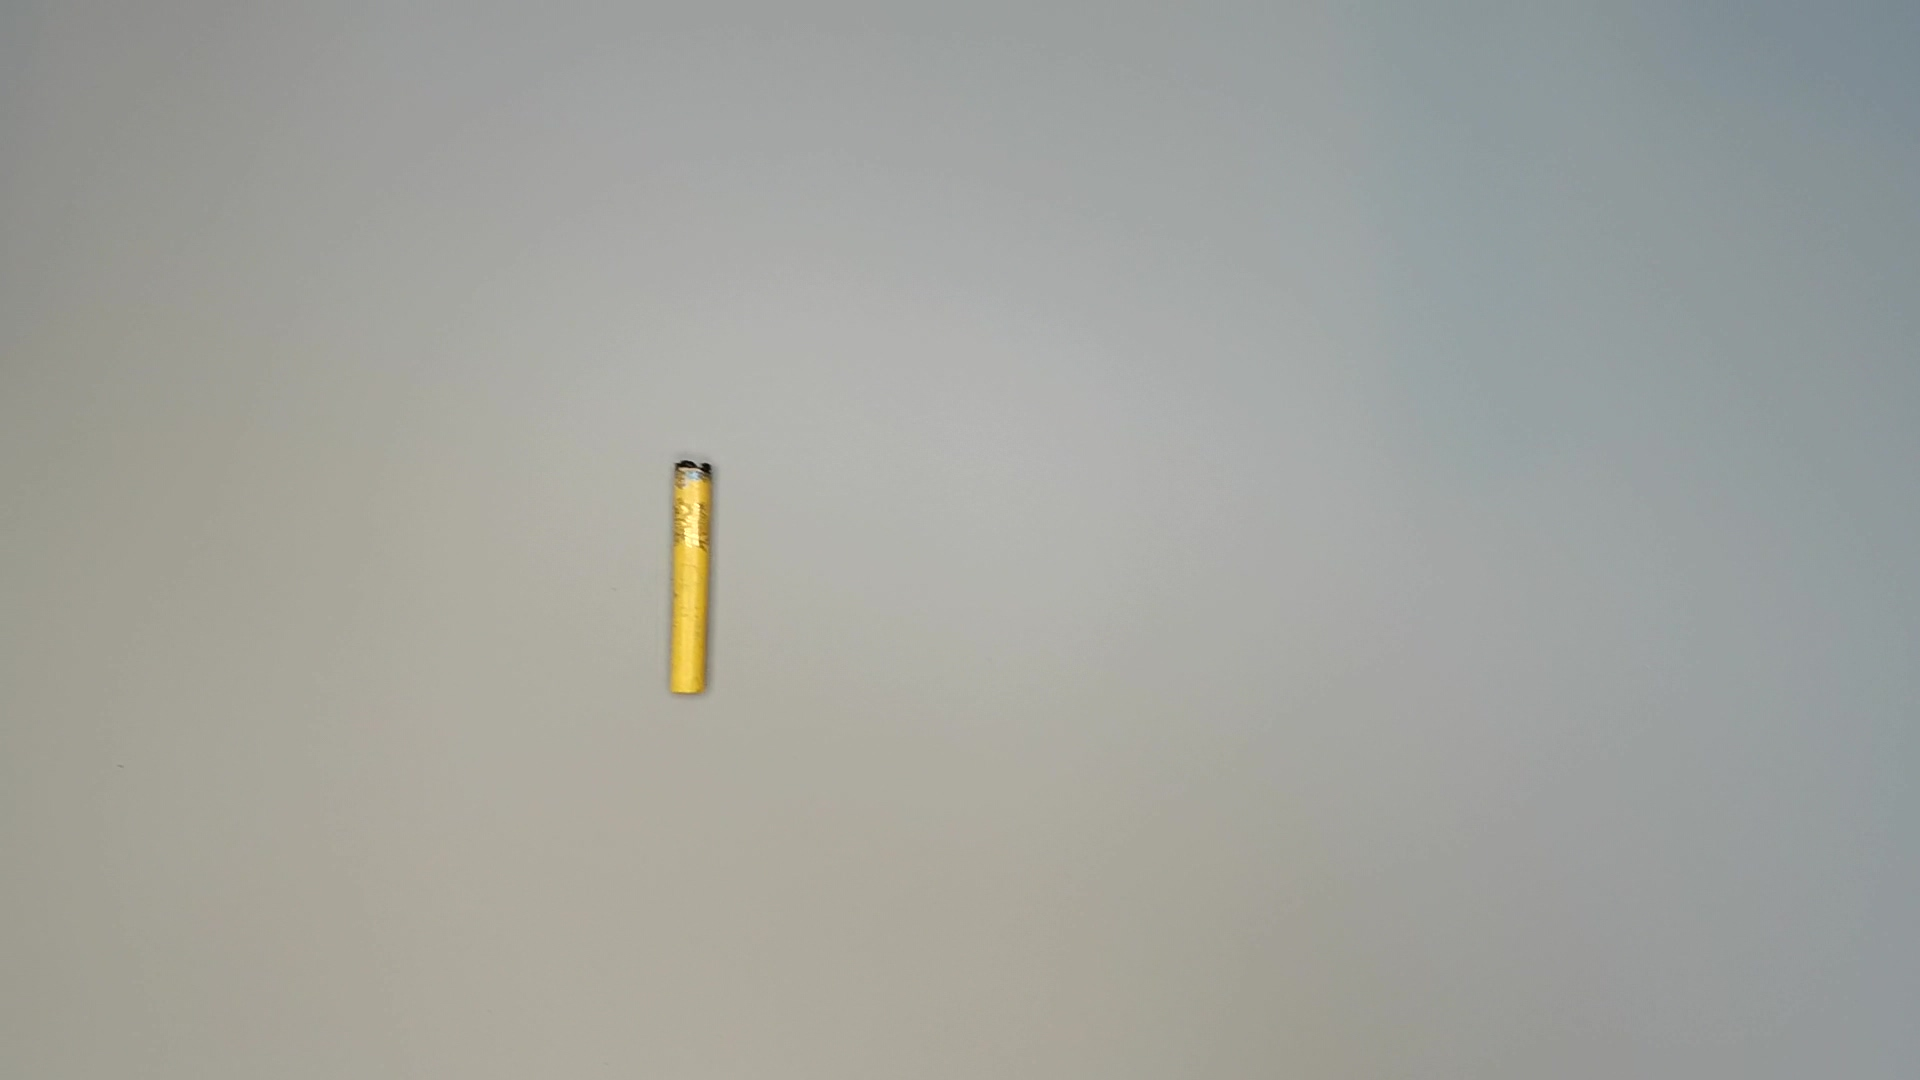cigarette: (662, 456, 721, 702)
